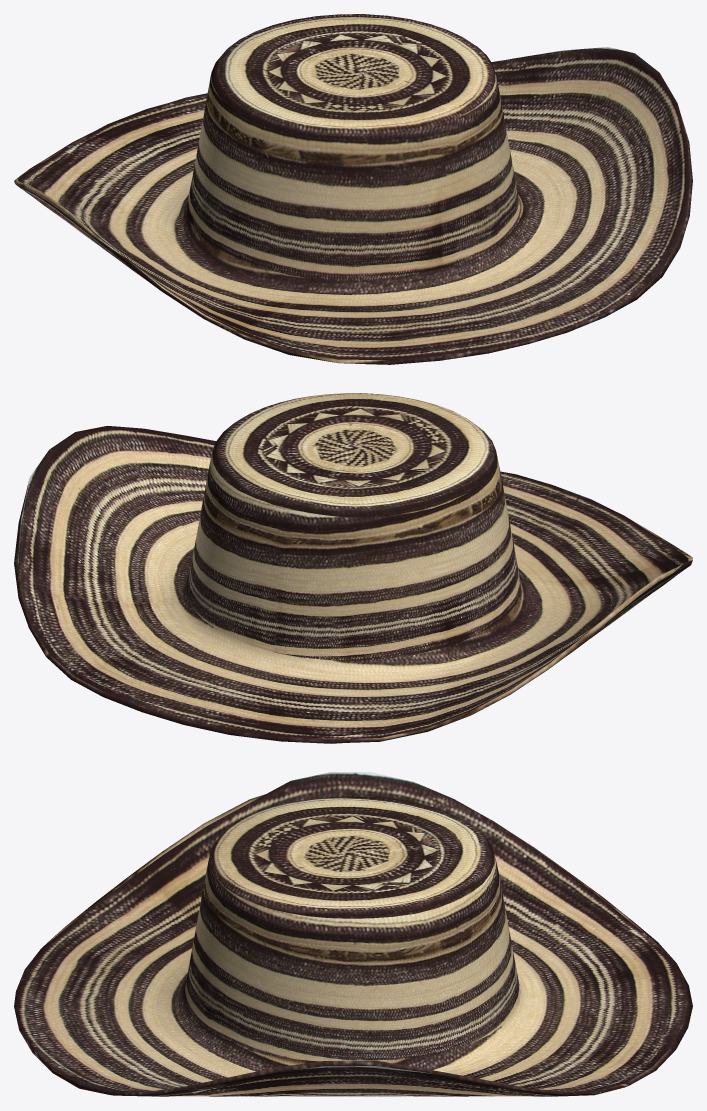
The model's file is ColombianVueltiao2.fbx.
3 views of the same model, one above another, from view 1: azimuth 30°, elevation 25°; view 2: azimuth 150°, elevation 25°; view 3: azimuth 270°, elevation 25° (orthographic).
Visible parts, largest first — view 1: Retopo_Sombrero_Vueltiao[1]; view 2: Retopo_Sombrero_Vueltiao[1]; view 3: Retopo_Sombrero_Vueltiao[1].
Boxes of the visible parts, left/top/right/bottom form: Retopo_Sombrero_Vueltiao[1]: left=14, top=14, right=692, bottom=364; Retopo_Sombrero_Vueltiao[1]: left=14, top=393, right=692, bottom=743; Retopo_Sombrero_Vueltiao[1]: left=14, top=772, right=692, bottom=1096.
Size of the model in its own units: 4718 by 1174 by 4691.
